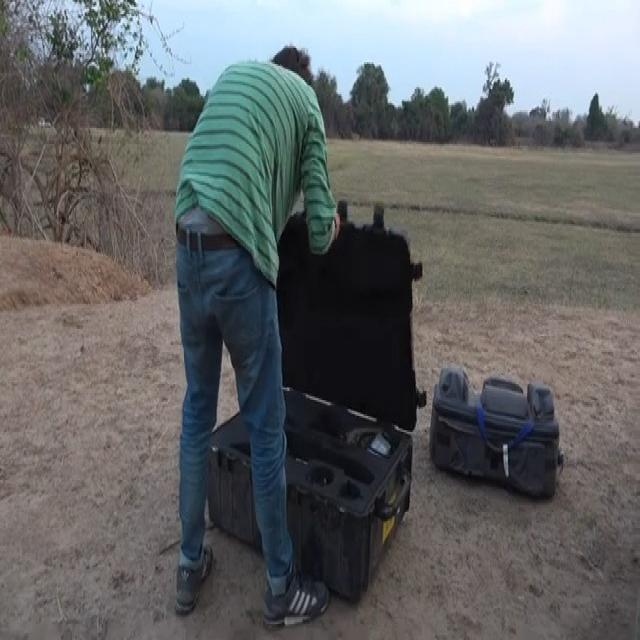device: (282, 219, 424, 609), (434, 342, 582, 544)
human: (148, 27, 341, 640), (160, 12, 320, 456)
